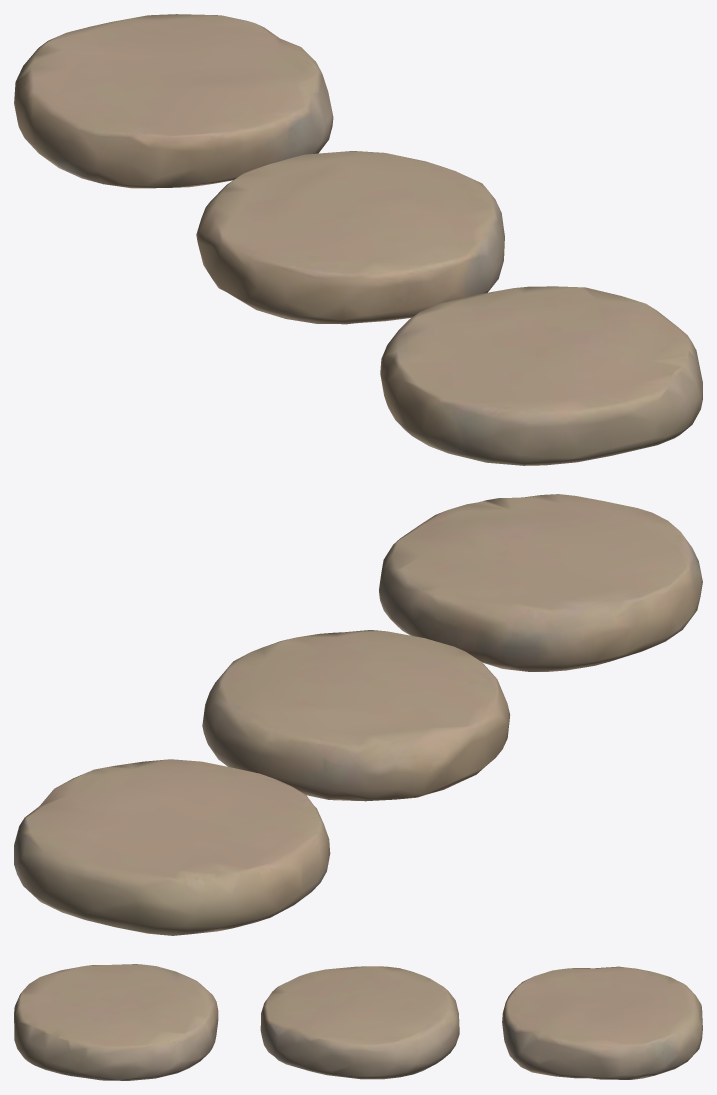
Rendered from stonepath.glb.
3 renders of one model, top to bottom at view 1: azimuth 30°, elevation 25°; view 2: azimuth 150°, elevation 25°; view 3: azimuth 270°, elevation 25°, orthographic. The views are drawn at different scales.
Visible parts, largest first — view 1: textured_mesh.obj; view 2: textured_mesh.obj; view 3: textured_mesh.obj.
Part boxes in pixels (x1=…): textured_mesh.obj: x1=14, y1=14, x2=702, y2=465; textured_mesh.obj: x1=14, y1=494, x2=702, y2=935; textured_mesh.obj: x1=14, y1=964, x2=702, y2=1080.
Size of what is drawn, in the model's own units: 0.3965 by 0.0862 by 1.3.
1 material, 1 textured.
